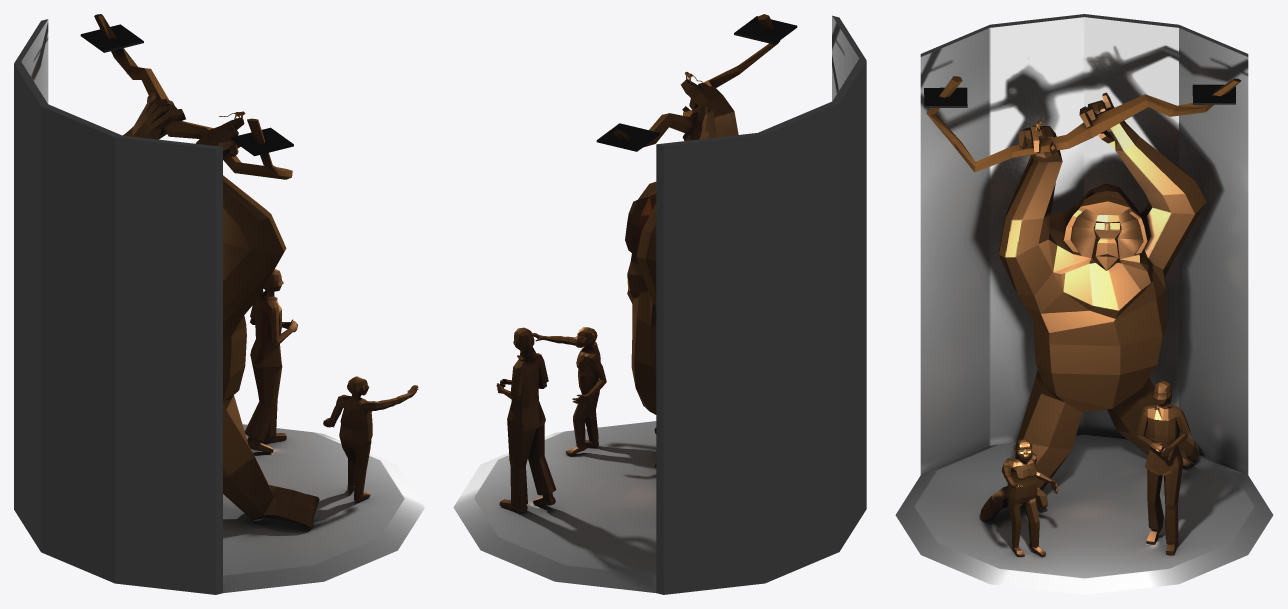
File: centerpiece.glb
3 renders of one model, left to right at view 1: azimuth 30°, elevation 25°; view 2: azimuth 150°, elevation 25°; view 3: azimuth 270°, elevation 25°, orthographic. The views are drawn at different scales.
Size of the model in its own units: 3.5 by 4.2 by 3.42.
Materials: 2 (2 with a texture image).
